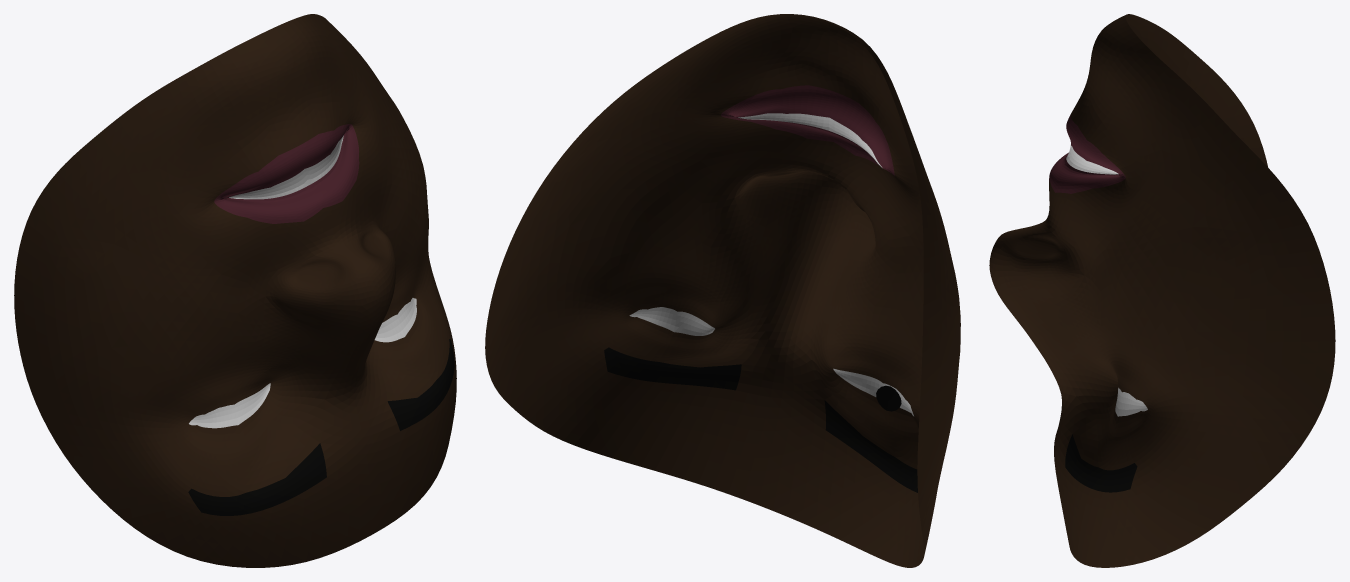
Rendered from VID-20250515-WA0003_f_01592.obj.
The picture shows the model from 3 angles, left to right: view 1: azimuth 30°, elevation 25°; view 2: azimuth 150°, elevation 25°; view 3: azimuth 270°, elevation 25°; orthographic projection. The views are drawn at different scales.
Parts seen in each view (by area): view 1: face_mesh_subdivided; view 2: face_mesh_subdivided; view 3: face_mesh_subdivided.
Part boxes in pixels (left/top/right/bottom): face_mesh_subdivided: left=14, top=14, right=456, bottom=567; face_mesh_subdivided: left=485, top=14, right=960, bottom=567; face_mesh_subdivided: left=989, top=14, right=1335, bottom=567.
Size of the model in its own units: 0.5417 by 0.668 by 0.4148.
